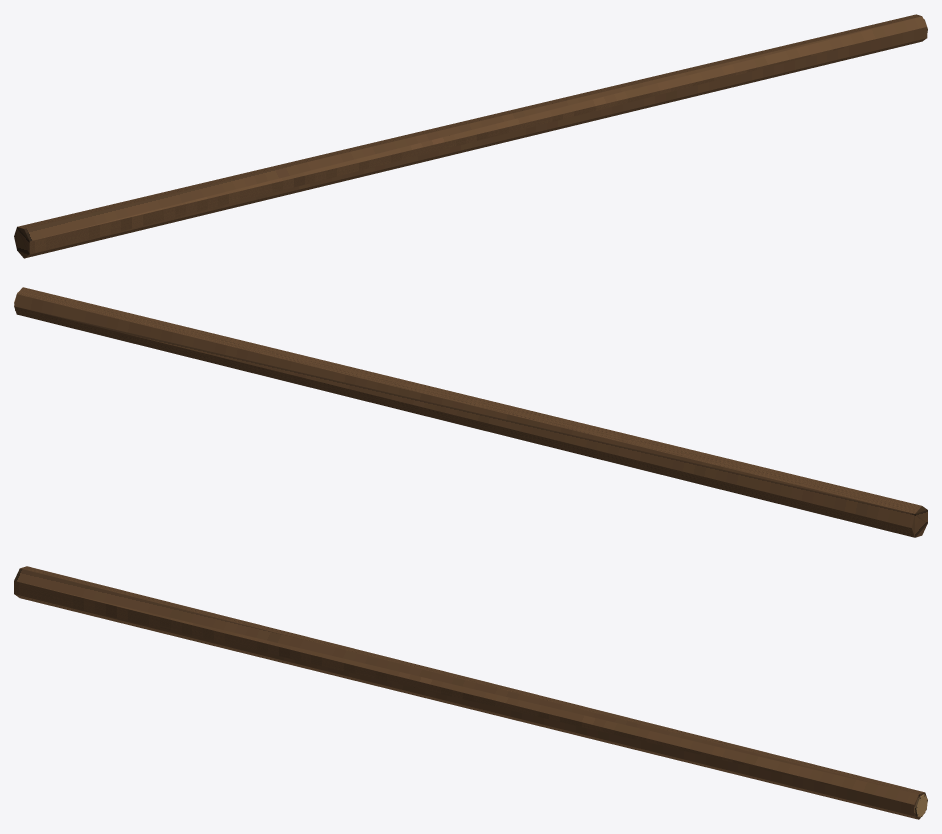
Rendered from stick.glb.
3 renders of one model, top to bottom at view 1: azimuth 30°, elevation 25°; view 2: azimuth 150°, elevation 25°; view 3: azimuth 330°, elevation 25°, orthographic.
Visible parts, largest first — view 1: block_stick; view 2: block_stick; view 3: block_stick.
Boxes of the visible parts, x1,y1,x2,y2 form: block_stick: [14, 14, 927, 258]; block_stick: [14, 287, 927, 537]; block_stick: [14, 566, 926, 819].
Size of the model in its own units: 1.3 by 0.0409 by 0.0452.
Materials: 1 (1 with a texture image).
